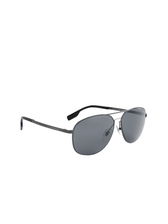glasses: (18, 100, 151, 157)
